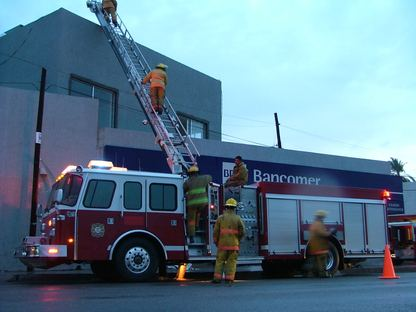truck: (13, 0, 396, 283)
